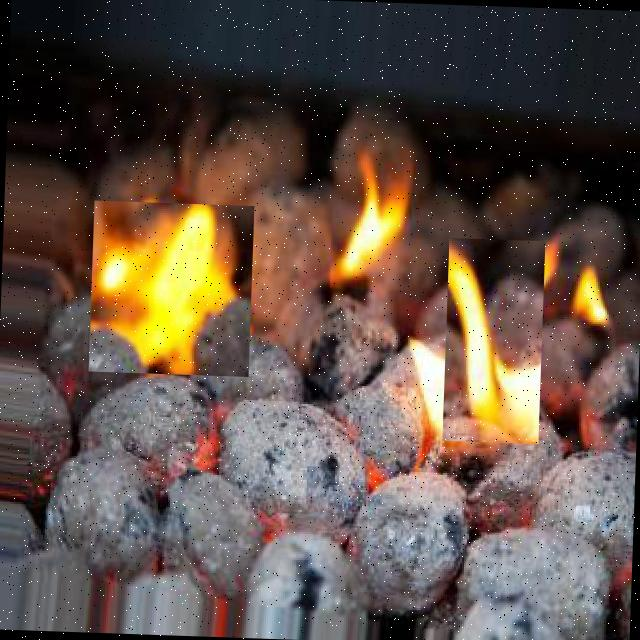fire: (88, 200, 254, 377), (442, 237, 545, 443), (330, 159, 412, 290)
